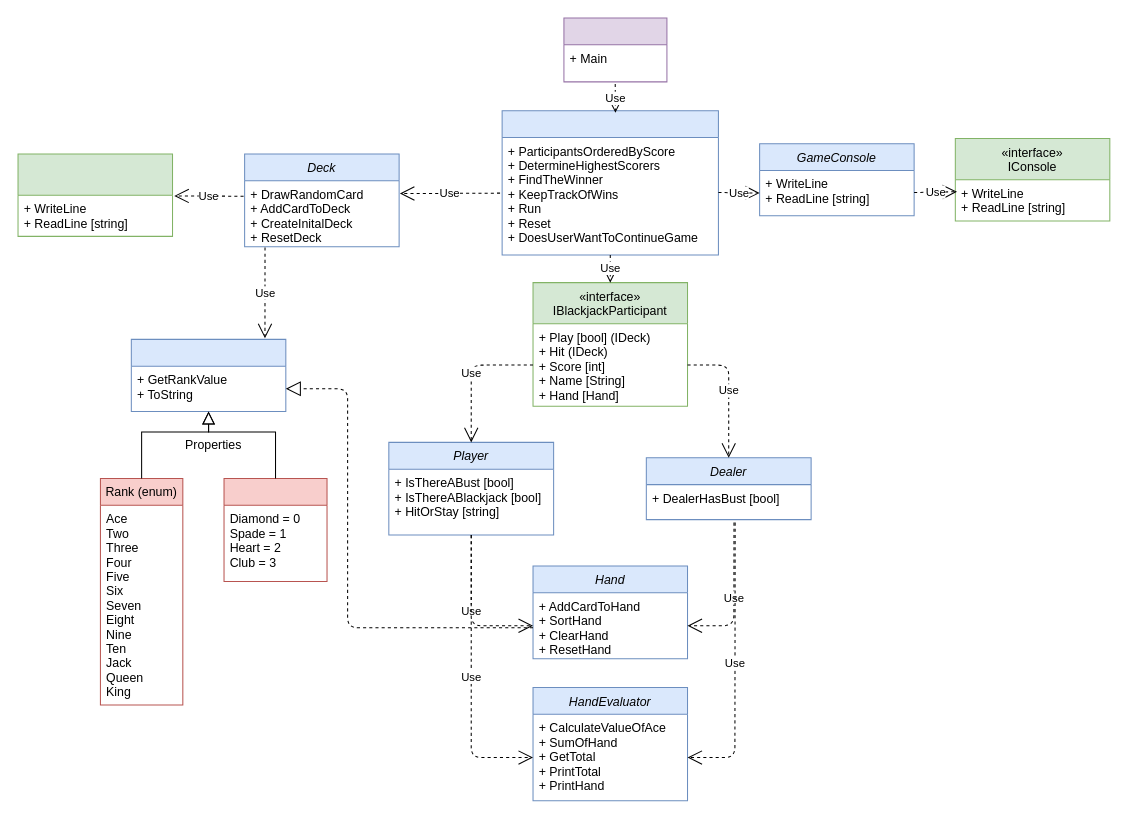
Some shapes in this 1128 by 822 pixel diagram are drawn without their labels. Here are the shapes that lost their labels. From the top down, the box of each, then its label:
(563, 17, 667, 82): Program
(17, 153, 173, 236): «interface» IDeck
(501, 110, 718, 255): Blackjack Game
(130, 338, 286, 411): Card
(223, 477, 327, 581): Suit (enum)
